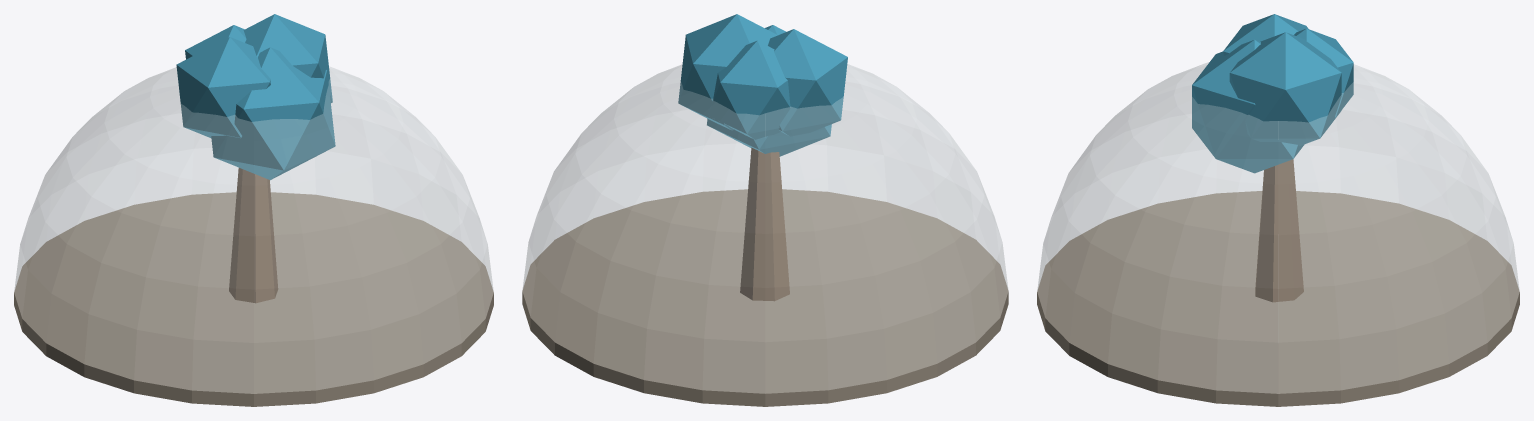
File: keryx.glb
3 renders of one model, left to right at view 1: azimuth 30°, elevation 25°; view 2: azimuth 150°, elevation 25°; view 3: azimuth 270°, elevation 25°, orthographic.
Visible parts, largest first — view 1: Dome_Glass, Dome_Base, Tree_Foliage, Tree_Trunk; view 2: Dome_Glass, Dome_Base, Tree_Foliage, Tree_Trunk; view 3: Dome_Glass, Dome_Base, Tree_Foliage, Tree_Trunk.
Part boxes in pixels (bbox=[...]): Dome_Glass: bbox=[14, 66, 493, 393]; Dome_Base: bbox=[14, 192, 493, 406]; Tree_Foliage: bbox=[176, 14, 335, 180]; Tree_Trunk: bbox=[229, 168, 278, 303]; Dome_Glass: bbox=[522, 64, 1008, 393]; Dome_Base: bbox=[522, 189, 1008, 406]; Tree_Foliage: bbox=[678, 14, 847, 156]; Tree_Trunk: bbox=[740, 147, 789, 301]; Dome_Glass: bbox=[1037, 62, 1519, 393]; Dome_Base: bbox=[1037, 191, 1519, 406]; Tree_Foliage: bbox=[1192, 14, 1353, 173]; Tree_Trunk: bbox=[1255, 159, 1303, 302].
Size of the model in its own units: 2.68 by 1.74 by 2.68.
